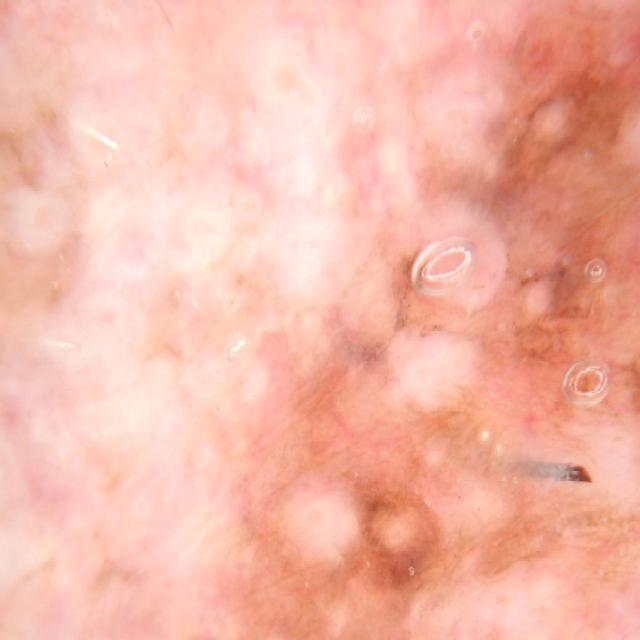Melanoma: (201, 264, 431, 640)
